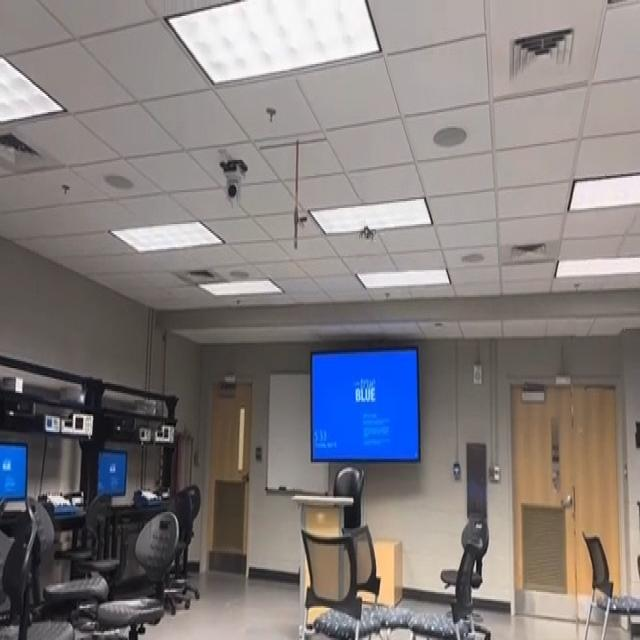drone: (351, 214, 382, 248)
